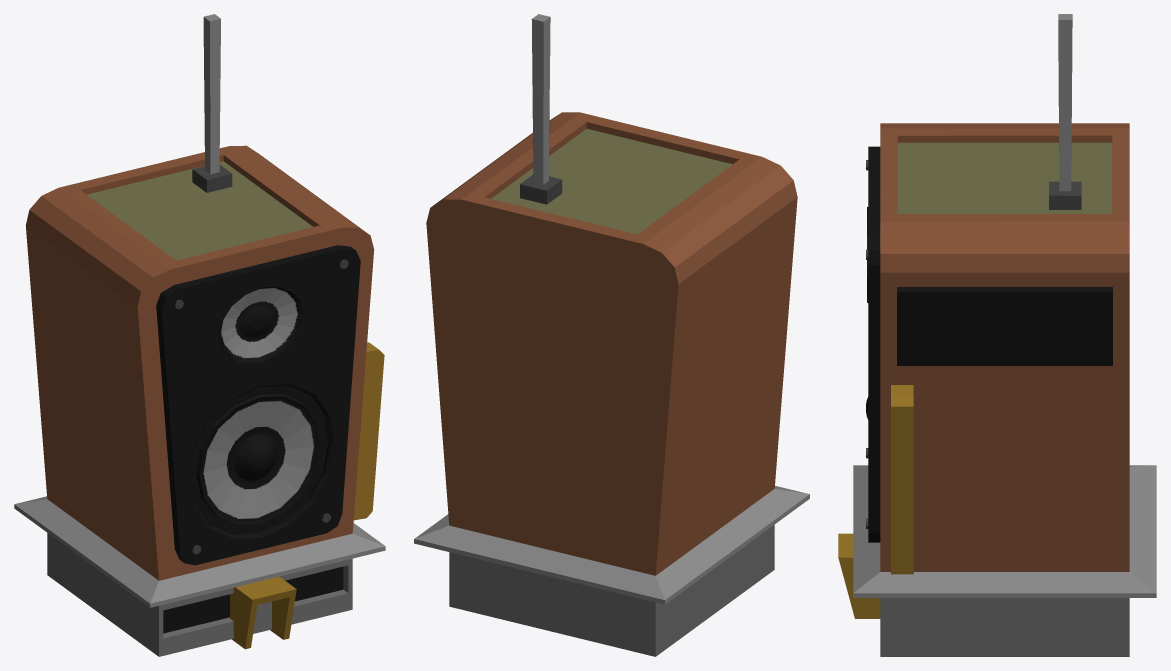
The model's file is yingxiao.fbx.
3 renders of one model, left to right at view 1: azimuth 30°, elevation 25°; view 2: azimuth 150°, elevation 25°; view 3: azimuth 270°, elevation 25°, orthographic. The views are drawn at different scales.
Parts seen in each view (by area): view 1: 立方体.020; view 2: 立方体.020; view 3: 立方体.020.
Boxes of the visible parts, x1,y1,x2,y2 form: 立方体.020: (14, 14, 385, 656); 立方体.020: (414, 14, 809, 656); 立方体.020: (838, 14, 1156, 656).
Bounding box in the file's own units: 260 × 541 × 255.
Materials: 1 (1 with a texture image).
